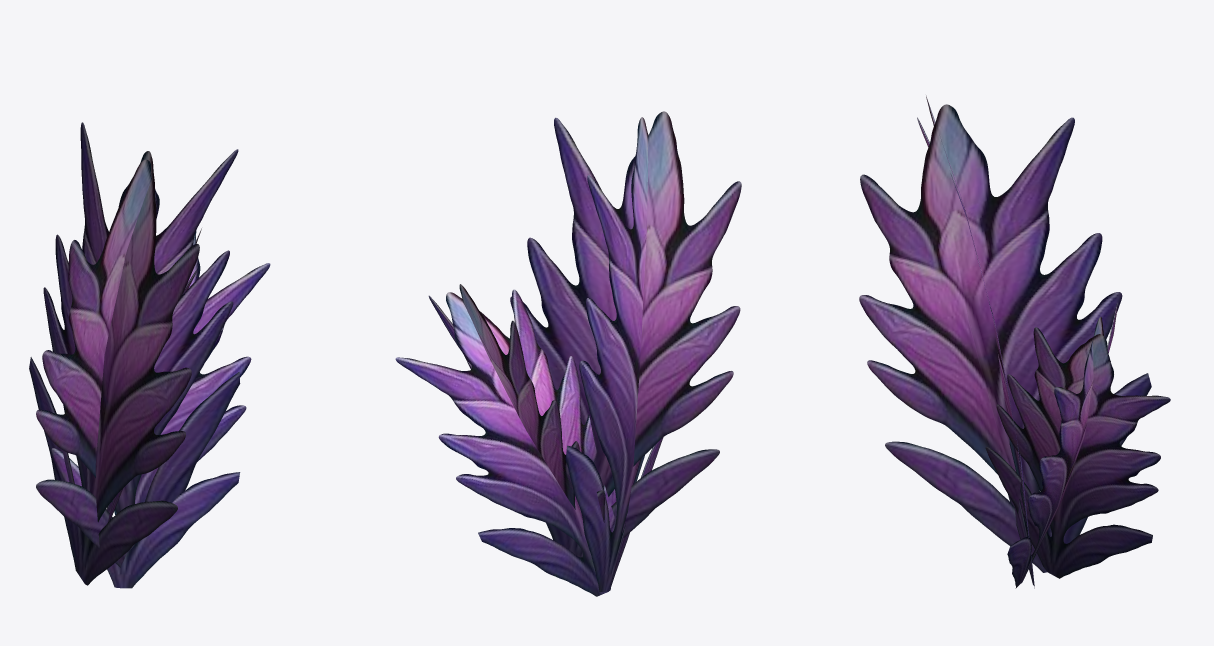
The model's file is Foliage_04.fbx.
3 renders of one model, left to right at view 1: azimuth 30°, elevation 25°; view 2: azimuth 150°, elevation 25°; view 3: azimuth 270°, elevation 25°, orthographic. The views are drawn at different scales.
Parts seen in each view (by area): view 1: Leaf_04; view 2: Leaf_04; view 3: Leaf_04.
Boxes of the visible parts, x1,y1,x2,y2 form: Leaf_04: (29, 122, 270, 588); Leaf_04: (395, 111, 741, 596); Leaf_04: (859, 95, 1170, 588).
Size of the model in its own units: 98.79 by 159 by 94.91.
Materials: 1 (1 with a texture image).
